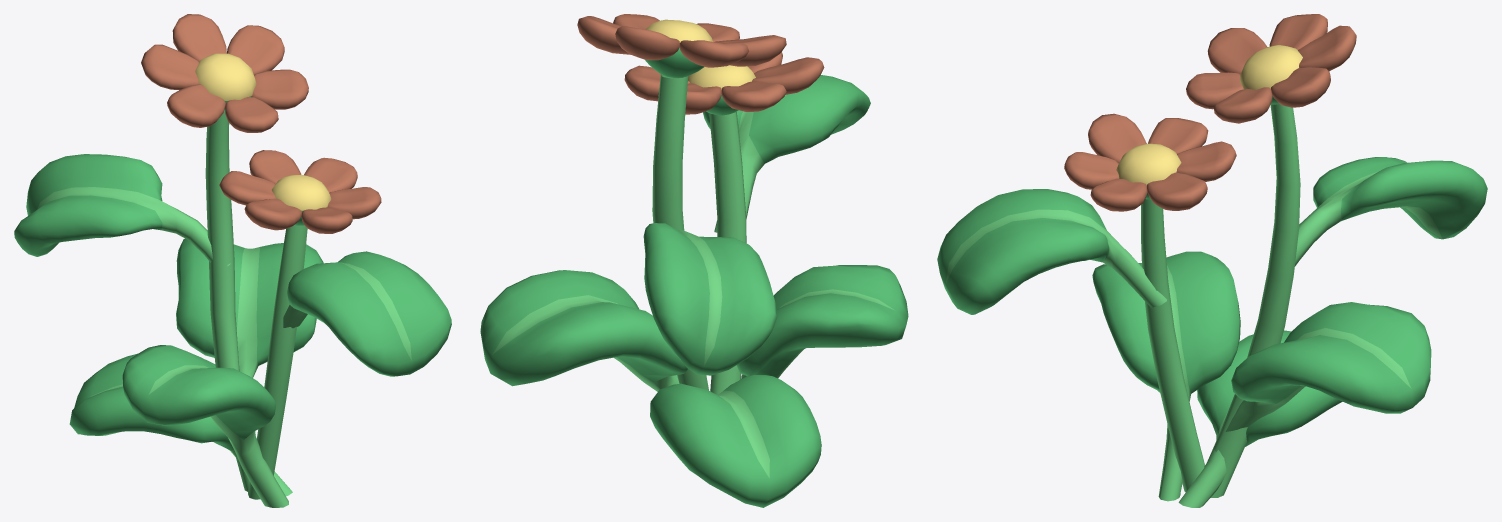
File: Flora_A_03.fbx
3 renders of one model, left to right at view 1: azimuth 30°, elevation 25°; view 2: azimuth 150°, elevation 25°; view 3: azimuth 270°, elevation 25°, orthographic. The views are drawn at different scales.
Parts seen in each view (by area): view 1: Flora_A_03_LOD0; view 2: Flora_A_03_LOD0; view 3: Flora_A_03_LOD0.
Part boxes in pixels (x1,y1,x2,y2): Flora_A_03_LOD0: (14, 14, 451, 507); Flora_A_03_LOD0: (480, 14, 908, 507); Flora_A_03_LOD0: (937, 14, 1487, 507).
Size of what is drawn, in the model's own units: 362 by 551 by 590.
